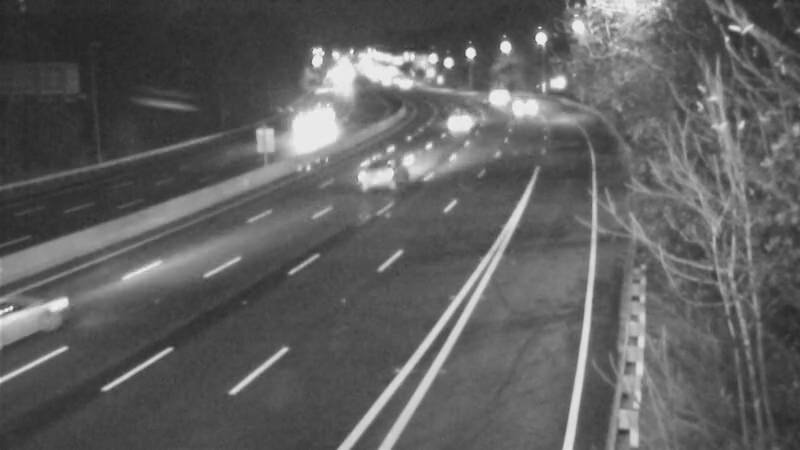vehicle: (1, 263, 93, 373), (337, 138, 417, 218), (465, 66, 515, 116), (486, 78, 536, 128), (422, 94, 472, 144), (294, 103, 344, 153)
